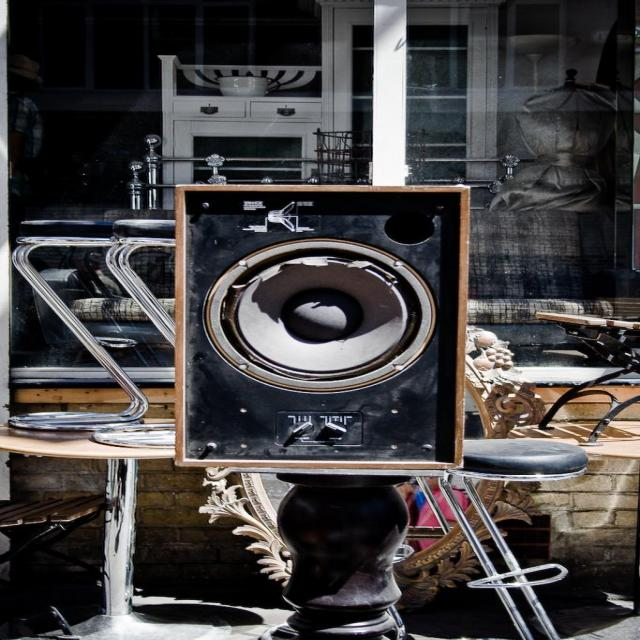table: (0, 422, 251, 616)
